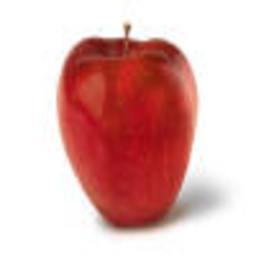apple: (55, 36, 199, 228)
